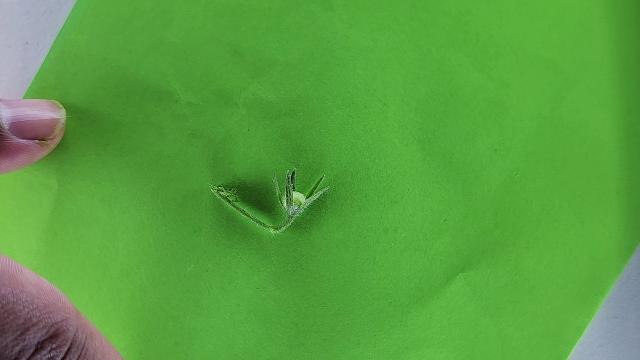Fruit Bud: (272, 166, 327, 224)
